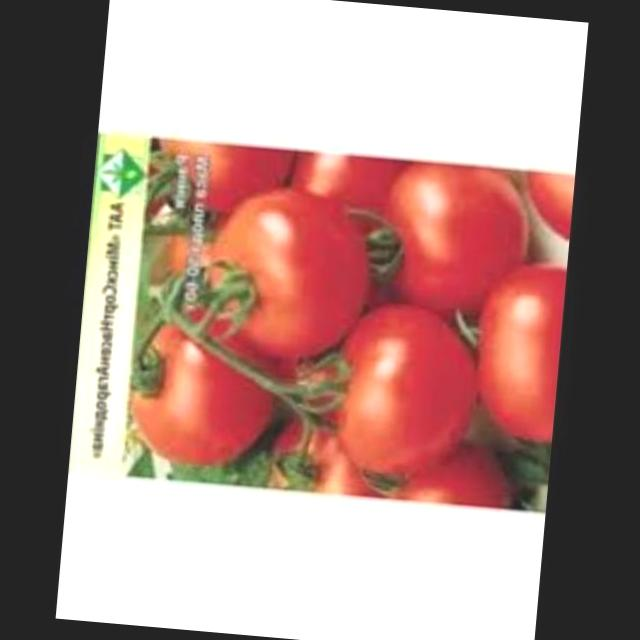Tomato: (354, 143, 532, 330), (191, 183, 368, 368), (314, 294, 479, 482), (122, 294, 280, 480), (458, 246, 566, 444), (352, 428, 516, 538), (158, 123, 298, 228), (282, 127, 404, 240), (256, 402, 361, 506), (510, 161, 573, 248)
